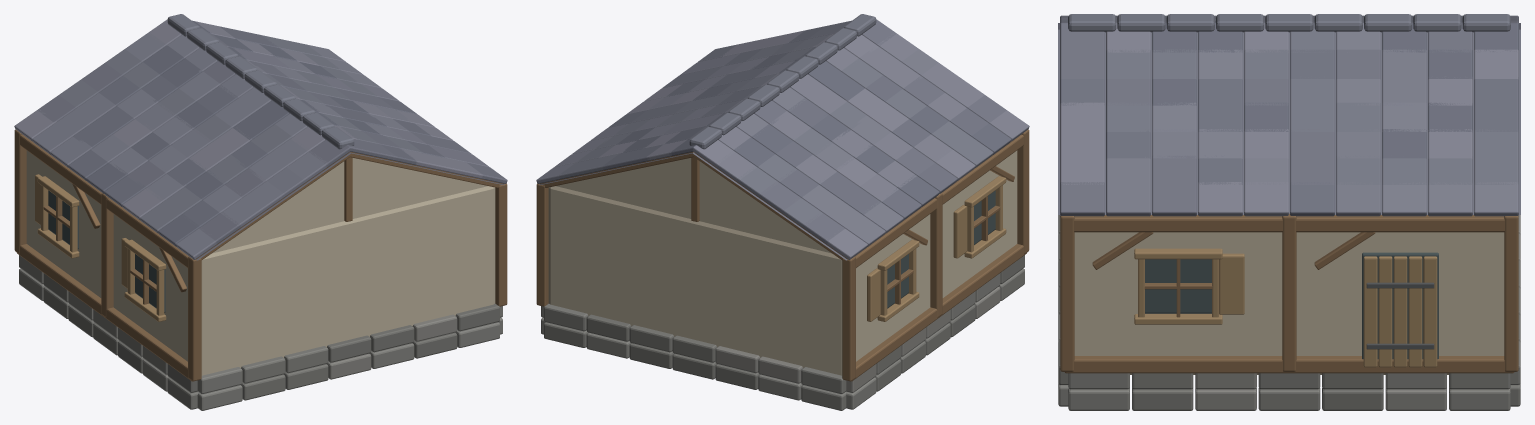
File: c01_house_3x3.glb
3 renders of one model, left to right at view 1: azimuth 30°, elevation 25°; view 2: azimuth 150°, elevation 25°; view 3: azimuth 270°, elevation 25°, orthographic. The views are drawn at different scales.
Parts seen in each view (by area): view 1: Walls, Roof; view 2: Walls, Roof; view 3: Roof, Walls.
Boxes of the visible parts, left/top/right/bottom form: Walls: left=14, top=129, right=507, bottom=410; Roof: left=14, top=14, right=507, bottom=260; Walls: left=536, top=129, right=1029, bottom=410; Roof: left=536, top=14, right=1029, bottom=260; Roof: left=1058, top=14, right=1520, bottom=216; Walls: left=1058, top=213, right=1520, bottom=410.
Bounding box in the file's own units: 2.94 × 2 × 2.82.
1 material, 1 textured.
